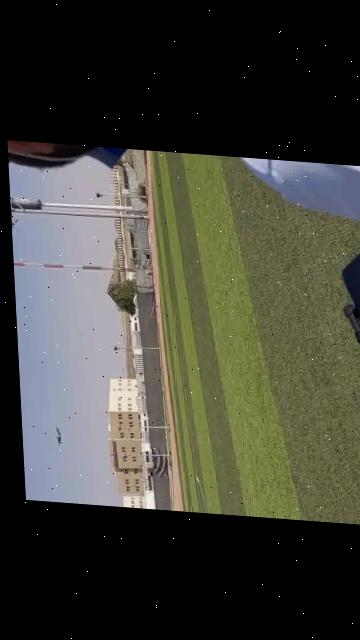drone: (42, 424, 63, 452)
